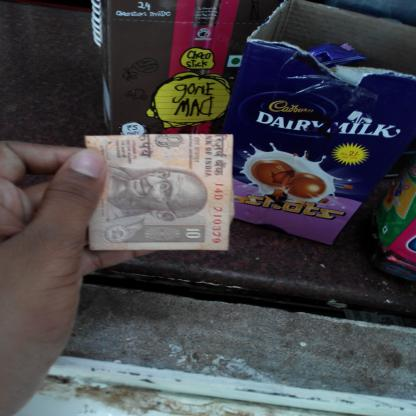Old10Front: (83, 133, 234, 251)
